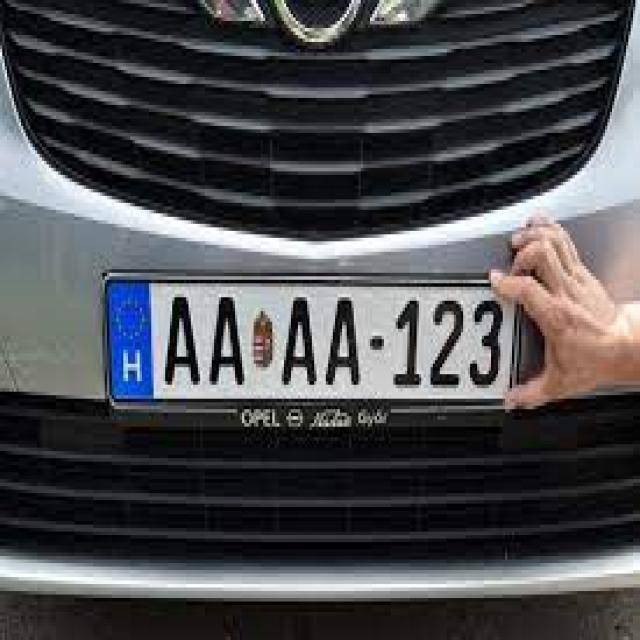licence: (104, 274, 517, 410)
